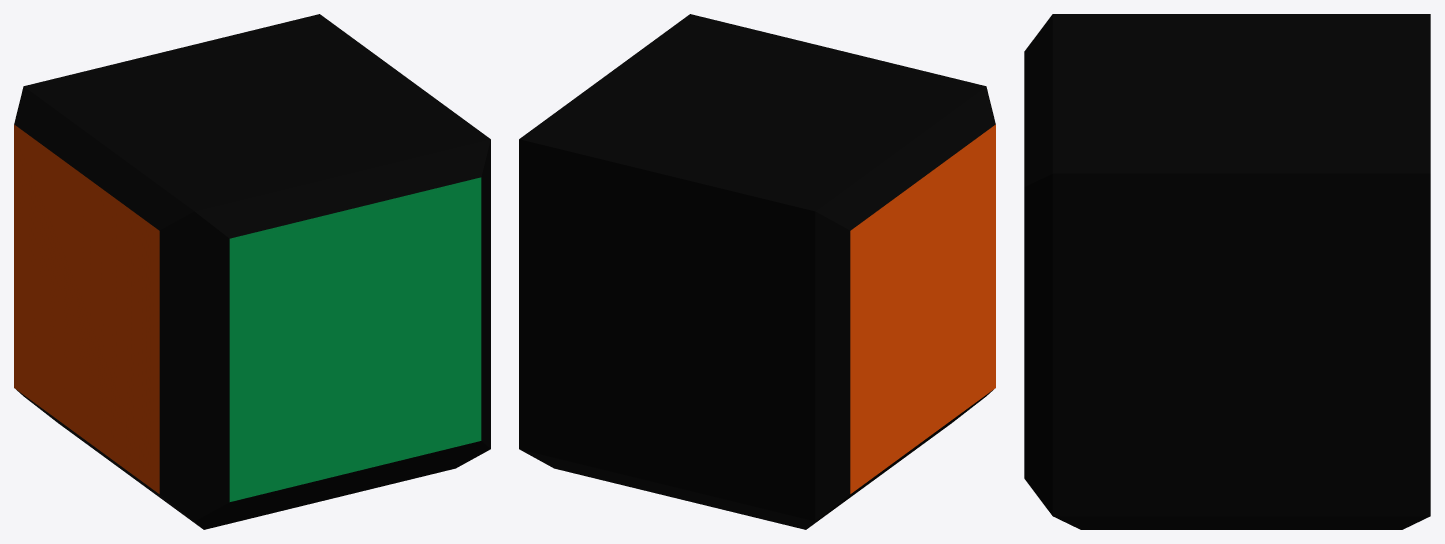
The model's file is rubiks_cube_9.glb.
3 views of the same model, side by side, from view 1: azimuth 30°, elevation 25°; view 2: azimuth 150°, elevation 25°; view 3: azimuth 270°, elevation 25° (orthographic). The views are drawn at different scales.
Parts seen in each view (by area): view 1: Cube9.001; view 2: Cube9.001; view 3: Cube9.001.
Boxes of the visible parts, x1,y1,x2,y2 form: Cube9.001: (14, 14, 490, 529); Cube9.001: (519, 14, 995, 529); Cube9.001: (1024, 14, 1430, 529).
Size of the model in its own units: 2.15 by 2.15 by 2.15.
